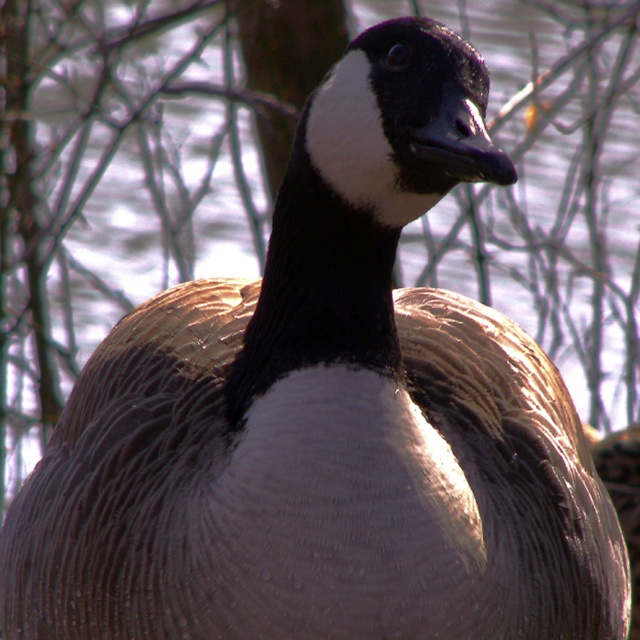Goose: (0, 15, 637, 639)
